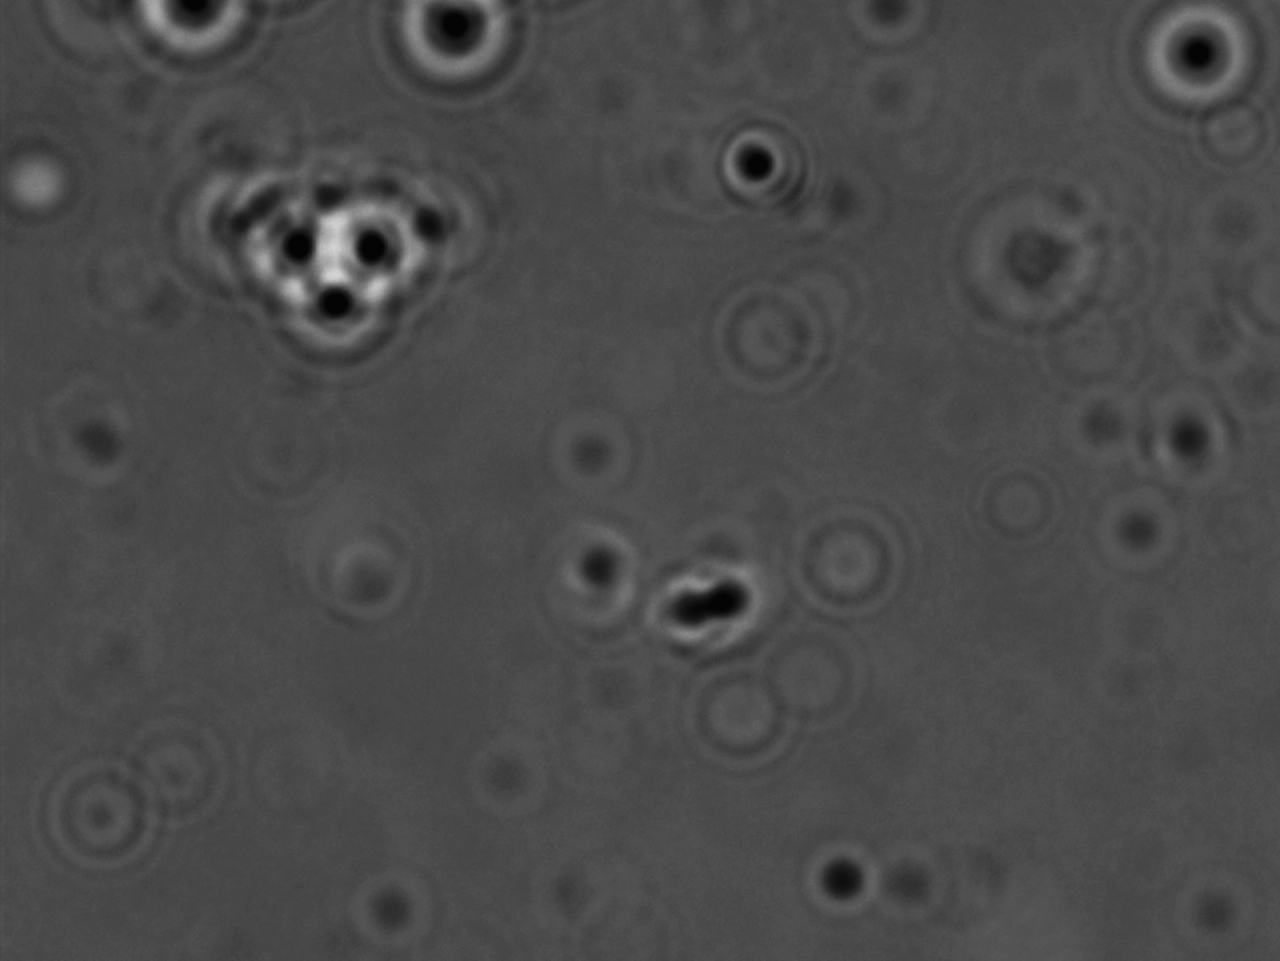depth:-24: (1133, 0, 1275, 127)
